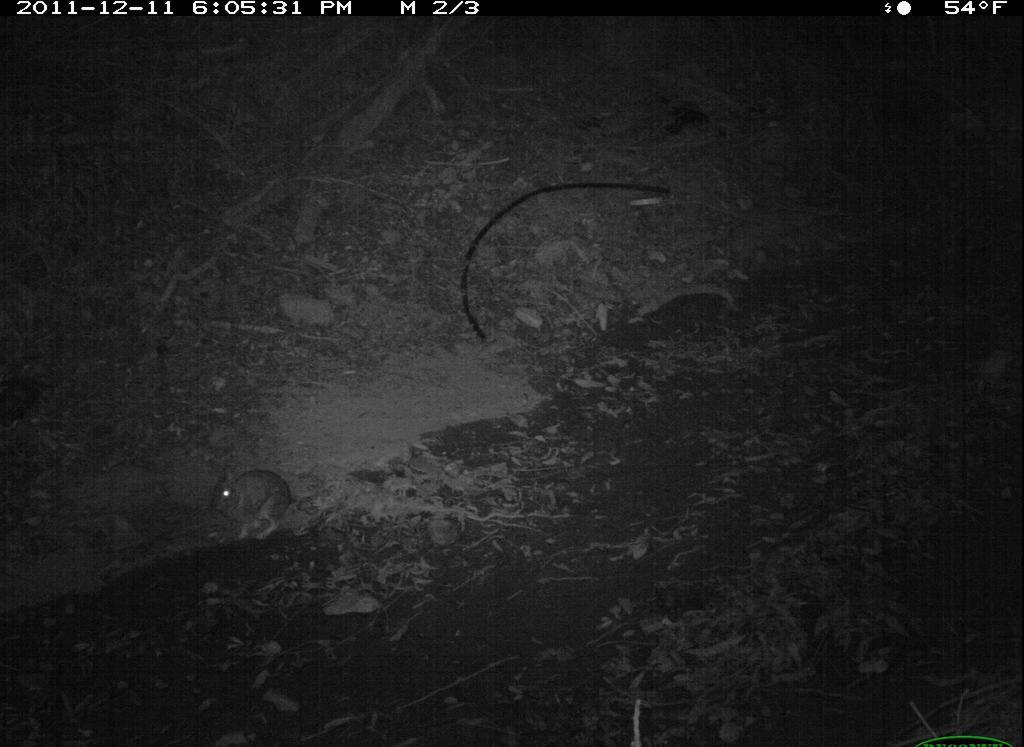rabbit: (193, 455, 306, 546)
